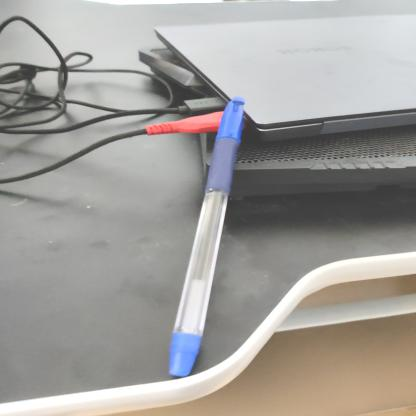pen: (143, 77, 255, 402)
